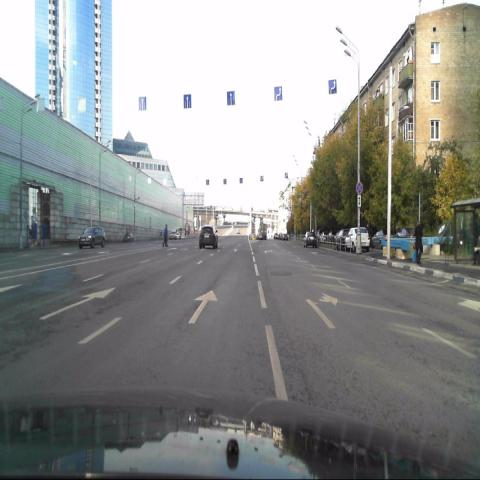3_27: (355, 182, 363, 196)
5_15_2: (273, 86, 283, 102), (328, 79, 338, 95), (183, 93, 192, 109), (227, 90, 236, 106), (138, 96, 147, 110)
